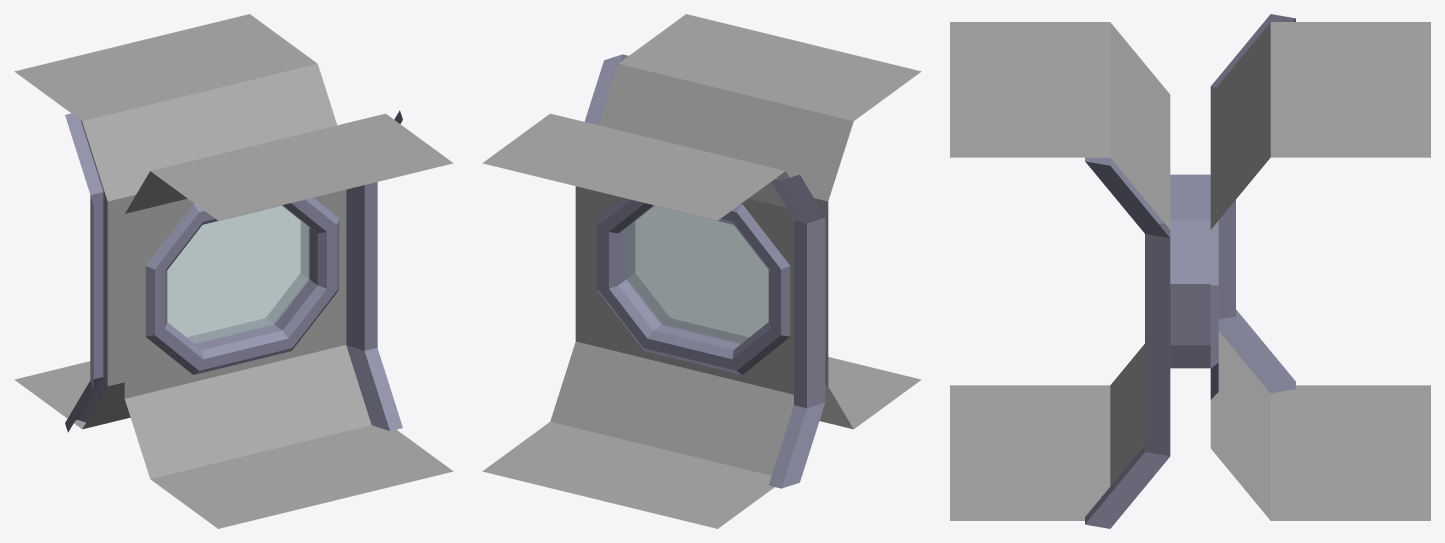
Rendered from SS_Tile_Window_v02.fbx.
The picture shows the model from 3 angles, left to right: view 1: azimuth 30°, elevation 25°; view 2: azimuth 150°, elevation 25°; view 3: azimuth 270°, elevation 25°; orthographic projection. The views are drawn at different scales.
Parts seen in each view (by area): view 1: pCube27; view 2: pCube27; view 3: pCube27.
Part boxes in pixels (x1=…): pCube27: x1=14, y1=14, x2=453, y2=528; pCube27: x1=482, y1=14, x2=921, y2=528; pCube27: x1=950, y1=14, x2=1430, y2=528.
Size of the model in its own units: 2.24 by 2.5 by 3.
